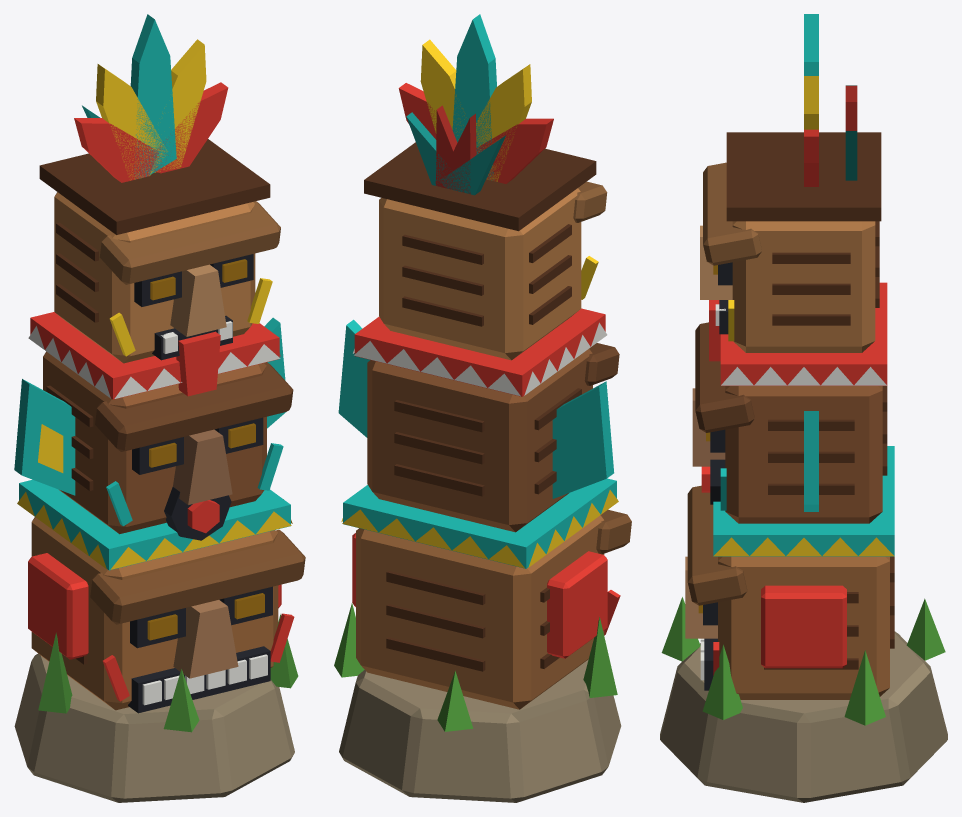
File: tiki.glb
3 renders of one model, left to right at view 1: azimuth 30°, elevation 25°; view 2: azimuth 150°, elevation 25°; view 3: azimuth 270°, elevation 25°, orthographic.
Parts seen in each view (by area): view 1: tiki; view 2: tiki; view 3: tiki.
Part boxes in pixels (bbox=[...]): tiki: bbox=[14, 14, 305, 802]; tiki: bbox=[334, 14, 631, 802]; tiki: bbox=[660, 14, 947, 802].
Size of the model in its own units: 2.08 by 5.42 by 1.94.
Materials: 2 (2 with a texture image).
